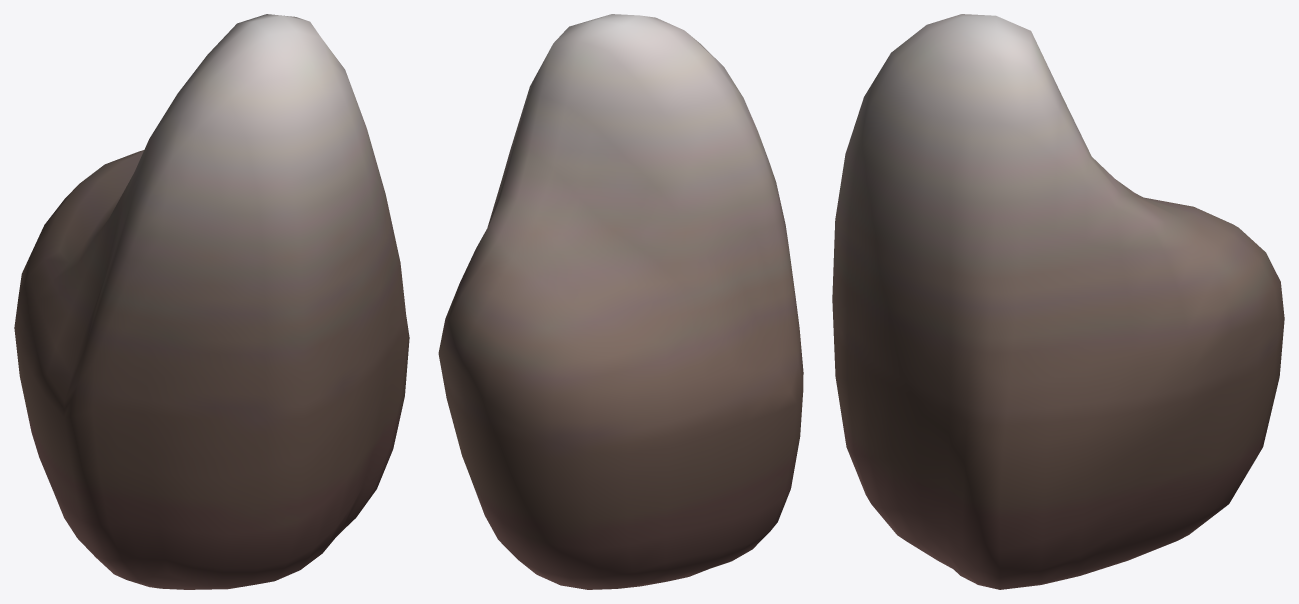
Rendered from M_Rock_Medium_05.fbx.
The picture shows the model from 3 angles, left to right: view 1: azimuth 30°, elevation 25°; view 2: azimuth 150°, elevation 25°; view 3: azimuth 270°, elevation 25°; orthographic projection. The views are drawn at different scales.
Visible parts, largest first — view 1: M_Rock_Medium_05; view 2: M_Rock_Medium_05; view 3: M_Rock_Medium_05.
Boxes of the visible parts, x1,y1,x2,y2 form: M_Rock_Medium_05: (14,14,409,589); M_Rock_Medium_05: (438,14,803,589); M_Rock_Medium_05: (832,14,1284,589).
Bounding box in the file's own units: 944 × 1436 × 1073.
Materials: 1 (1 with a texture image).
